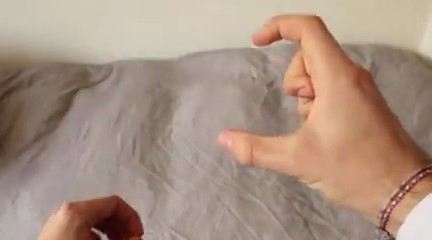C: (208, 4, 414, 217)
